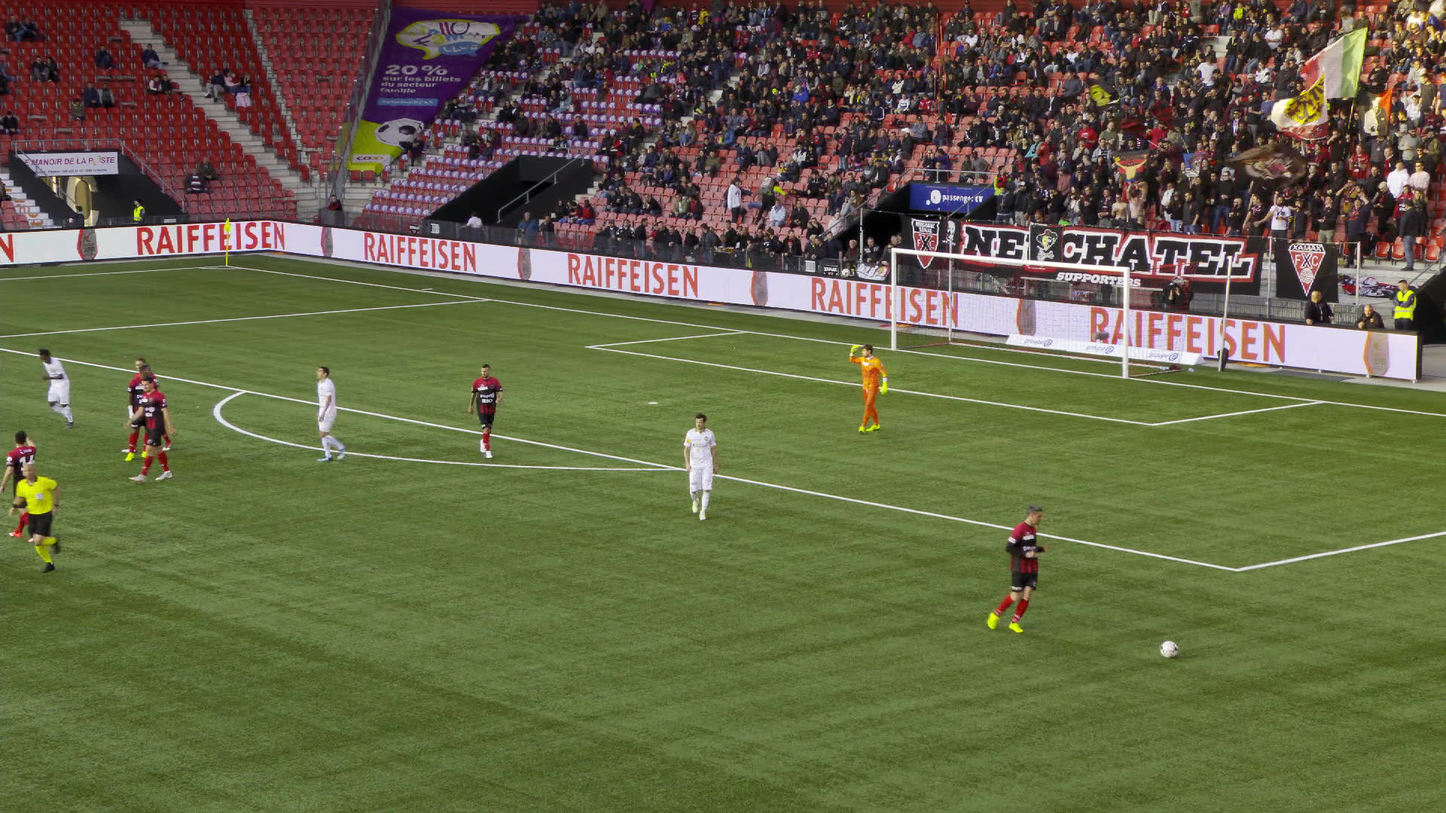ball: (1160, 640, 1178, 656)
player: (997, 498, 1042, 629), (300, 367, 353, 462), (135, 375, 179, 482), (4, 428, 39, 540), (38, 348, 86, 429), (682, 413, 718, 520), (850, 343, 888, 433), (125, 364, 158, 460), (469, 361, 502, 455), (133, 355, 161, 451)
referee: (23, 455, 68, 572)
